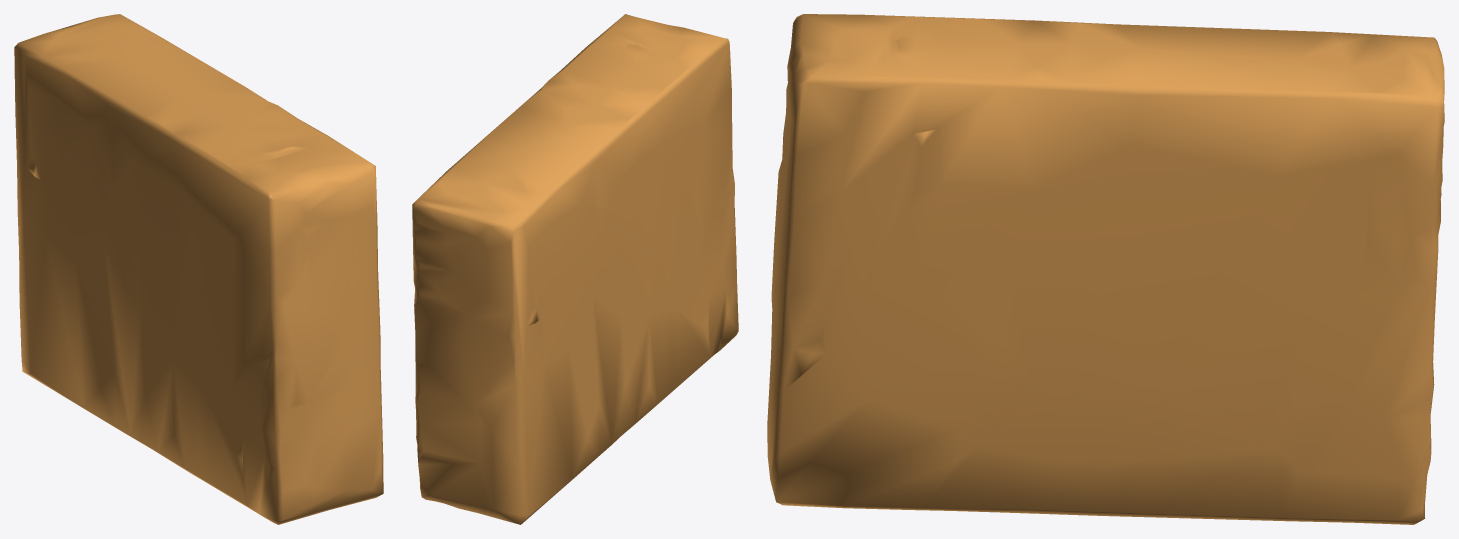
Rendered from rectangularCube3_6.dae.
3 renders of one model, left to right at view 1: azimuth 30°, elevation 25°; view 2: azimuth 150°, elevation 25°; view 3: azimuth 270°, elevation 25°, orthographic. The views are drawn at different scales.
Parts seen in each view (by area): view 1: ChickenSoup_800_tex_019; view 2: ChickenSoup_800_tex_019; view 3: ChickenSoup_800_tex_019.
Part boxes in pixels (left/top/right/bottom): ChickenSoup_800_tex_019: left=14, top=14, right=383, bottom=524; ChickenSoup_800_tex_019: left=412, top=14, right=738, bottom=524; ChickenSoup_800_tex_019: left=767, top=14, right=1444, bottom=524.
Bounding box in the file's own units: 0.0165 × 0.0593 × 0.045.
